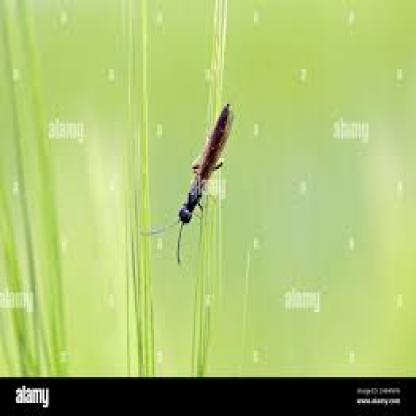sawfly: (153, 104, 236, 260)
